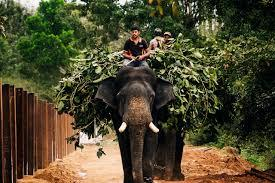elephant: (96, 66, 183, 182)
